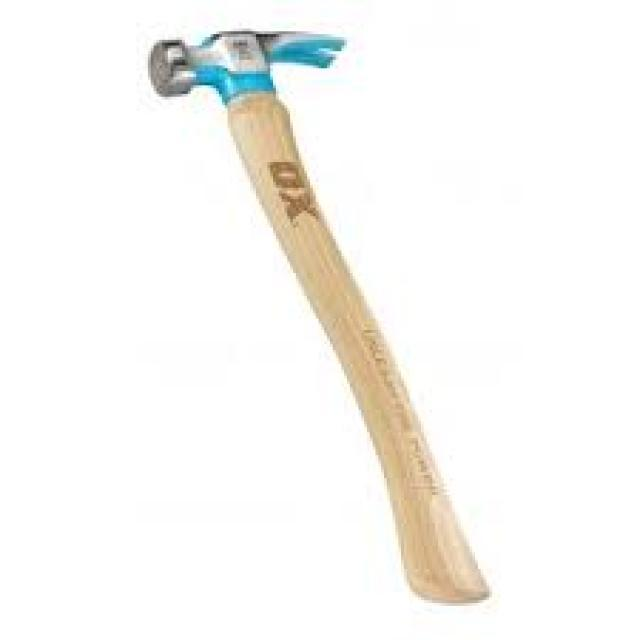Palu: (135, 18, 510, 606)
